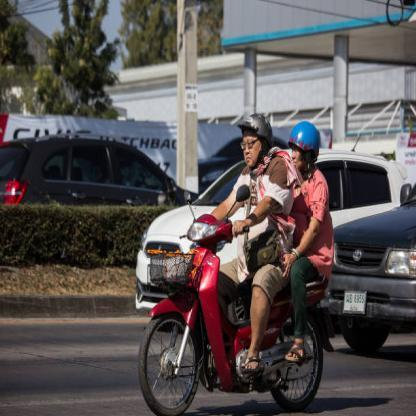Motorcycle: (139, 203, 332, 415)
